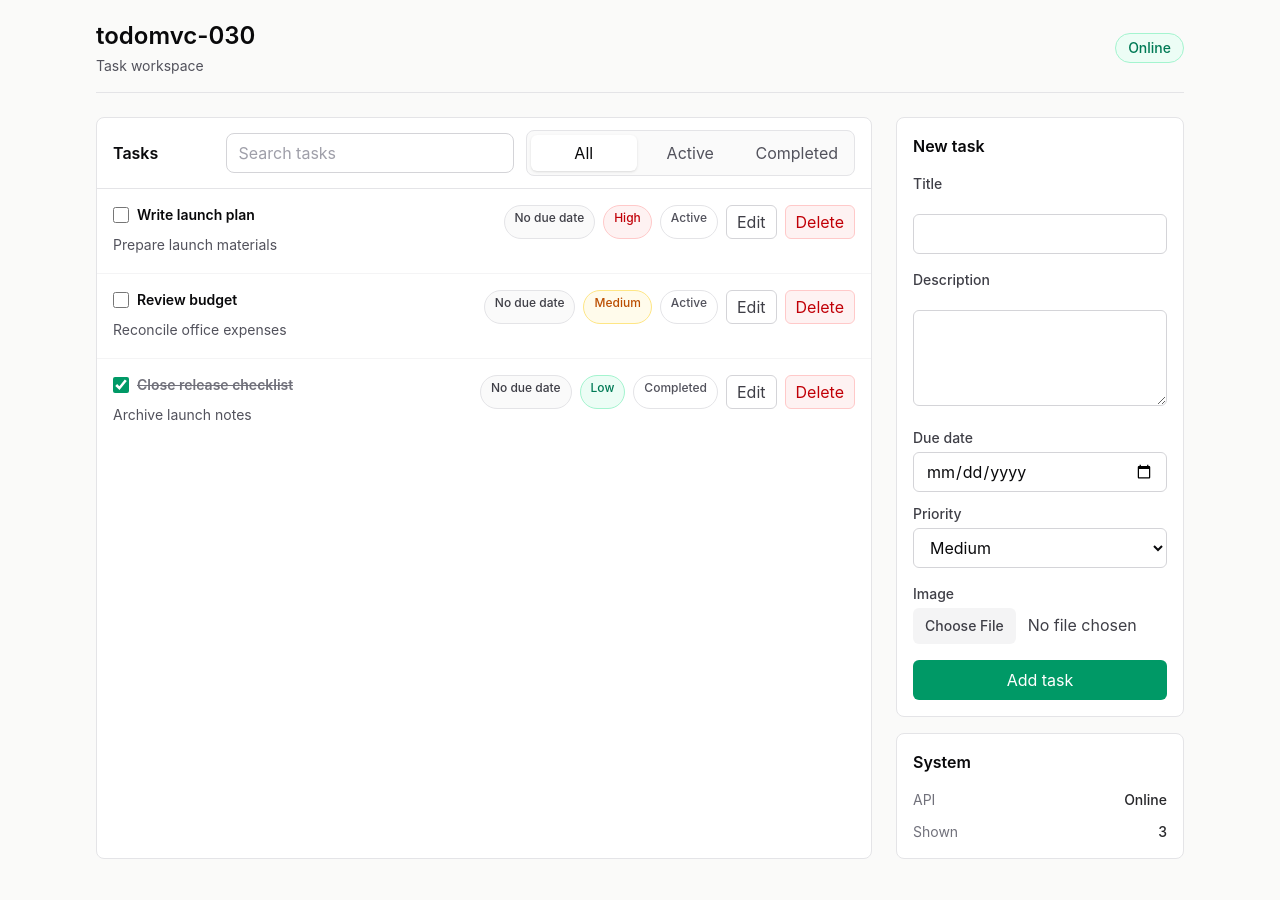
Test case: App search › passes debounced search through the API and restores the list when cleared
The width and height of the screenshot is (1280, 900).
Check: the heading "Write launch plan" is shown, box [137,205,255,225]
Check: the heading "Review budget" is shown, box [137,290,237,310]
Type "budget" into the search field labelled "Search tasks".
click(370, 153); type("budget")  # box [226,133,514,173]
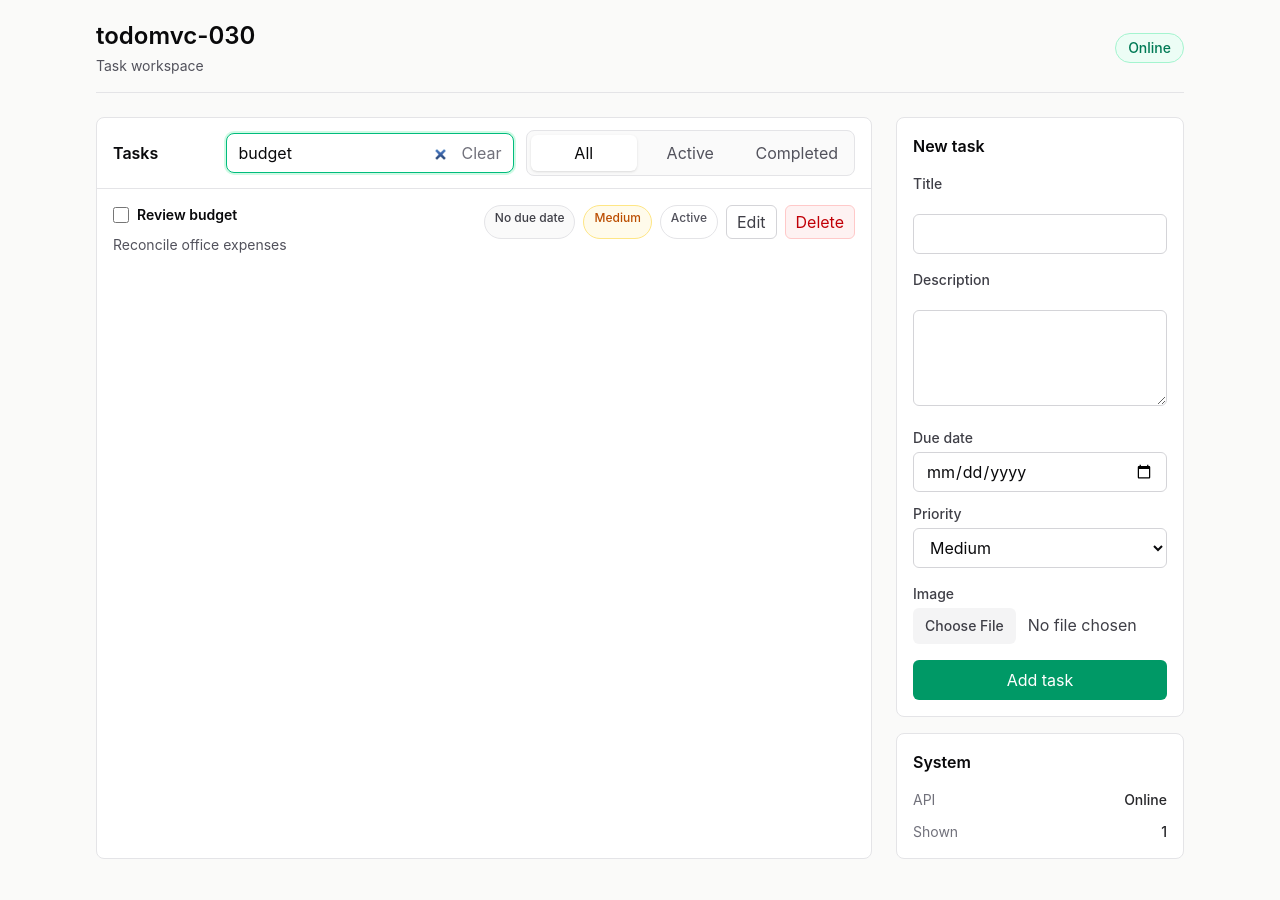
Check: the heading "Review budget" is shown, box [137,205,237,225]
Check: the heading "Write launch plan" is gone
Click the tab "Active".
click(690, 153)  # box [637,135,744,171]
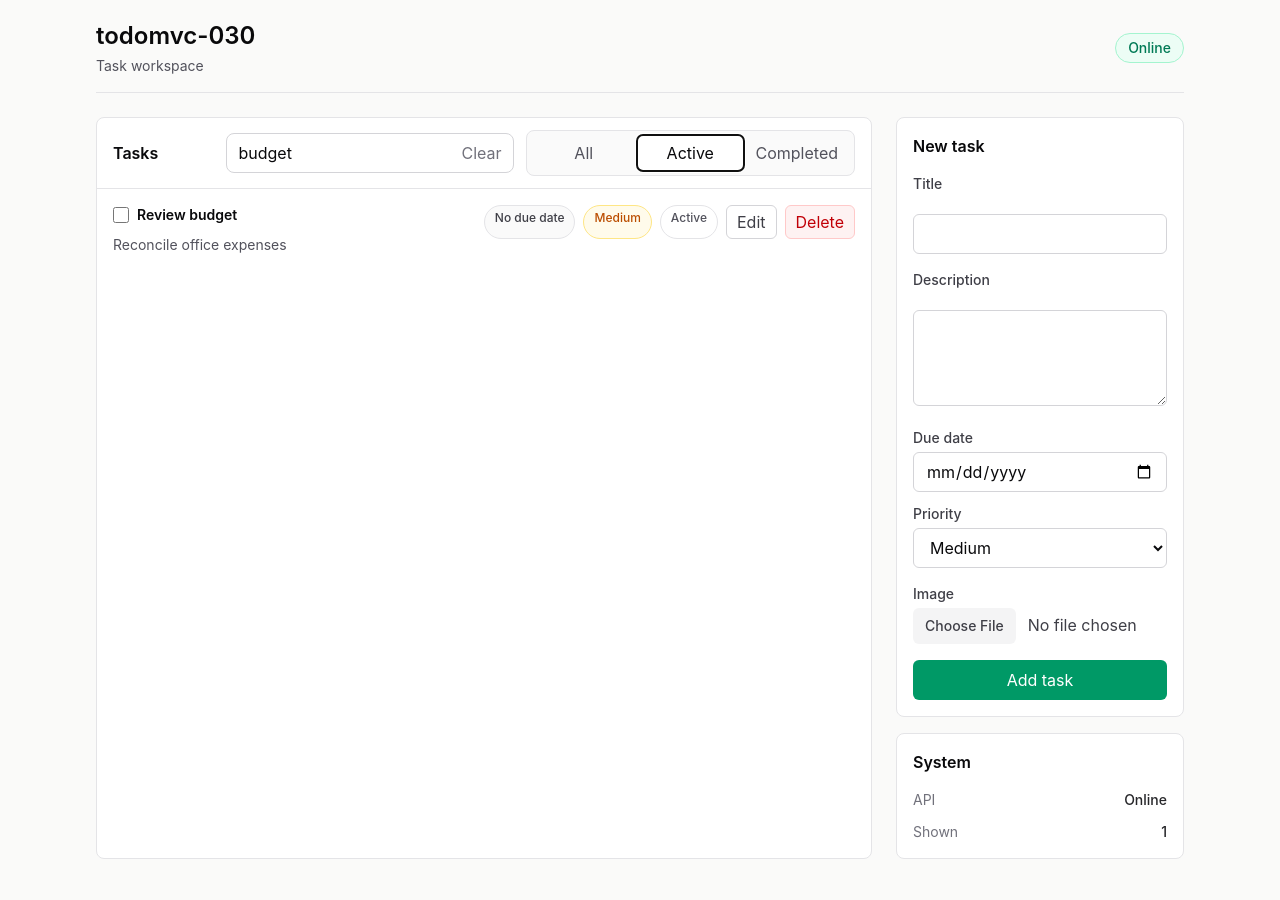
Check: the heading "Review budget" is shown, box [137,205,237,225]
Click the button "Clear".
click(481, 153)  # box [453,137,510,169]
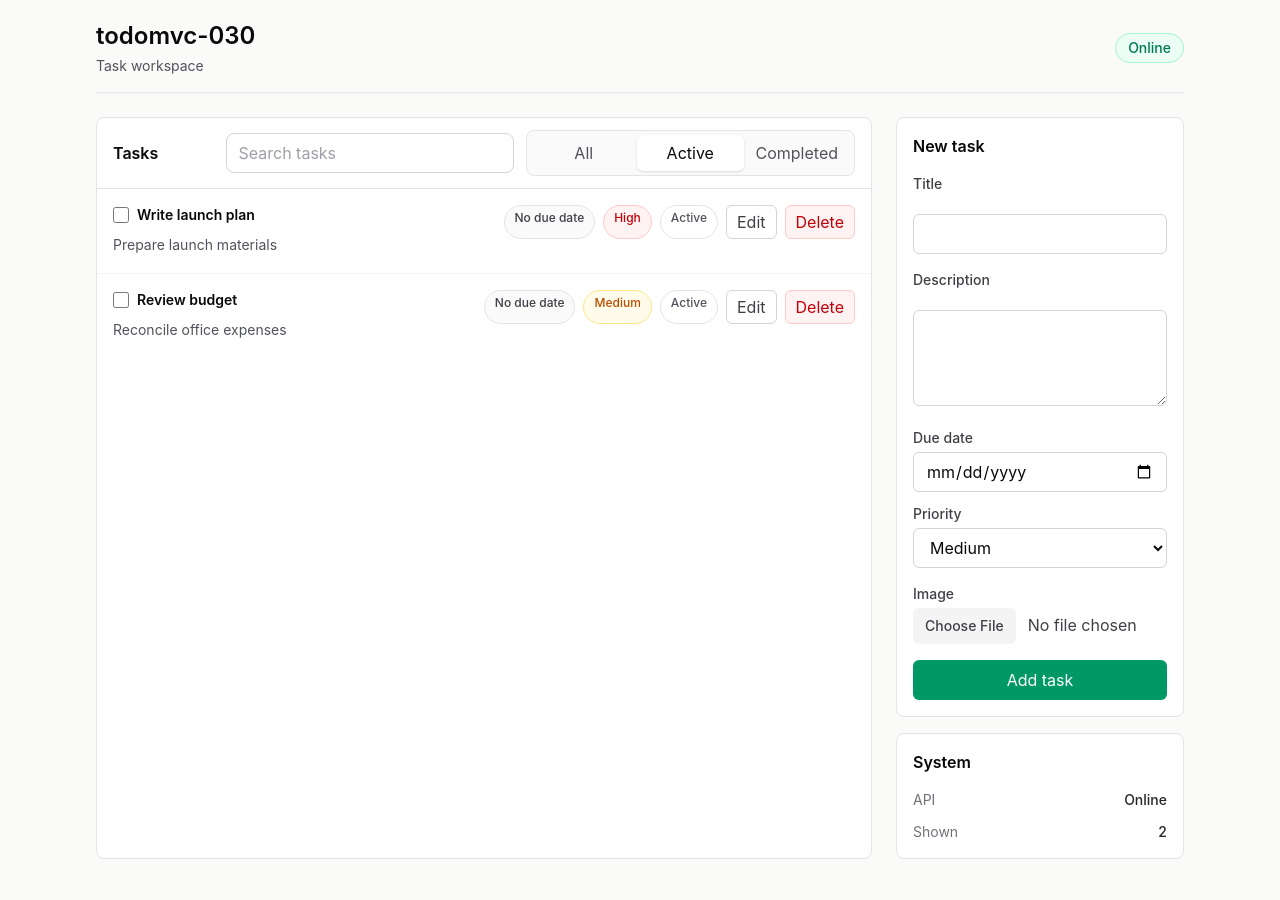
Check: the heading "Review budget" is shown, box [137,290,237,310]
Check: the heading "Write launch plan" is shown, box [137,205,255,225]
